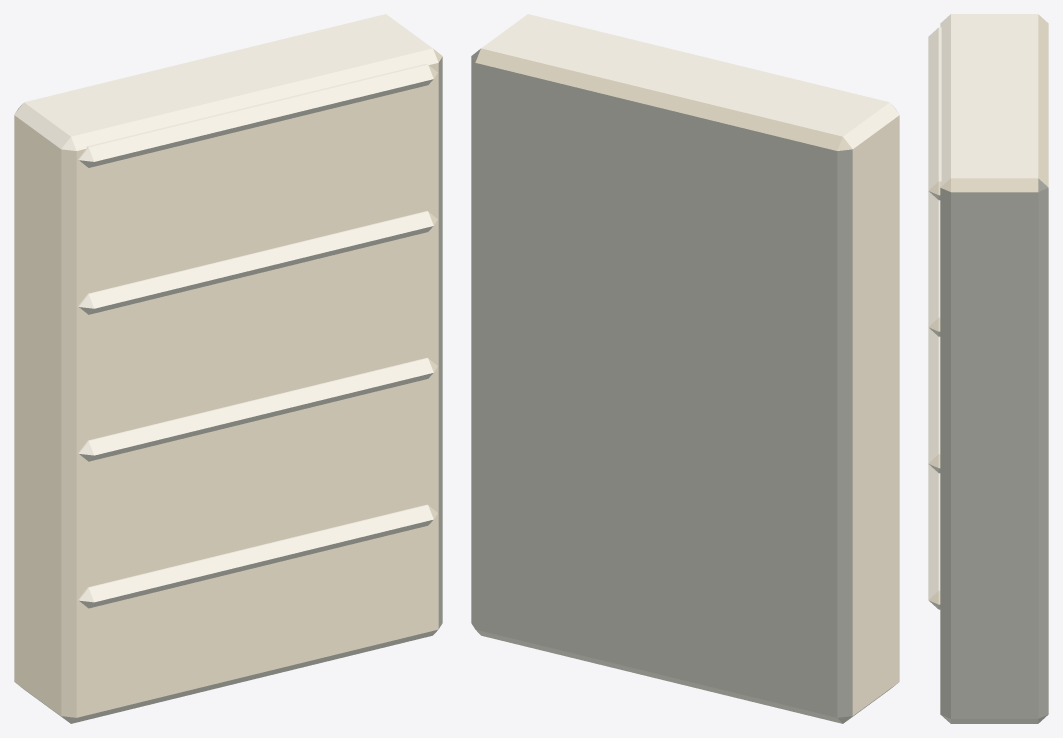
Rendered from Door_LeafTile.gltf.
3 views of the same model, side by side, from view 1: azimuth 30°, elevation 25°; view 2: azimuth 150°, elevation 25°; view 3: azimuth 270°, elevation 25° (orthographic). The views are drawn at different scales.
Visible parts, largest first — view 1: Door_LeafTile_baked; view 2: Door_LeafTile_baked; view 3: Door_LeafTile_baked.
Boxes of the visible parts, x1=… form: Door_LeafTile_baked: x1=14, y1=14, x2=442, y2=723; Door_LeafTile_baked: x1=471, y1=14, x2=899, y2=723; Door_LeafTile_baked: x1=928, y1=14, x2=1048, y2=723.
Size of the model in its own units: 0.68 by 1 by 0.2.
